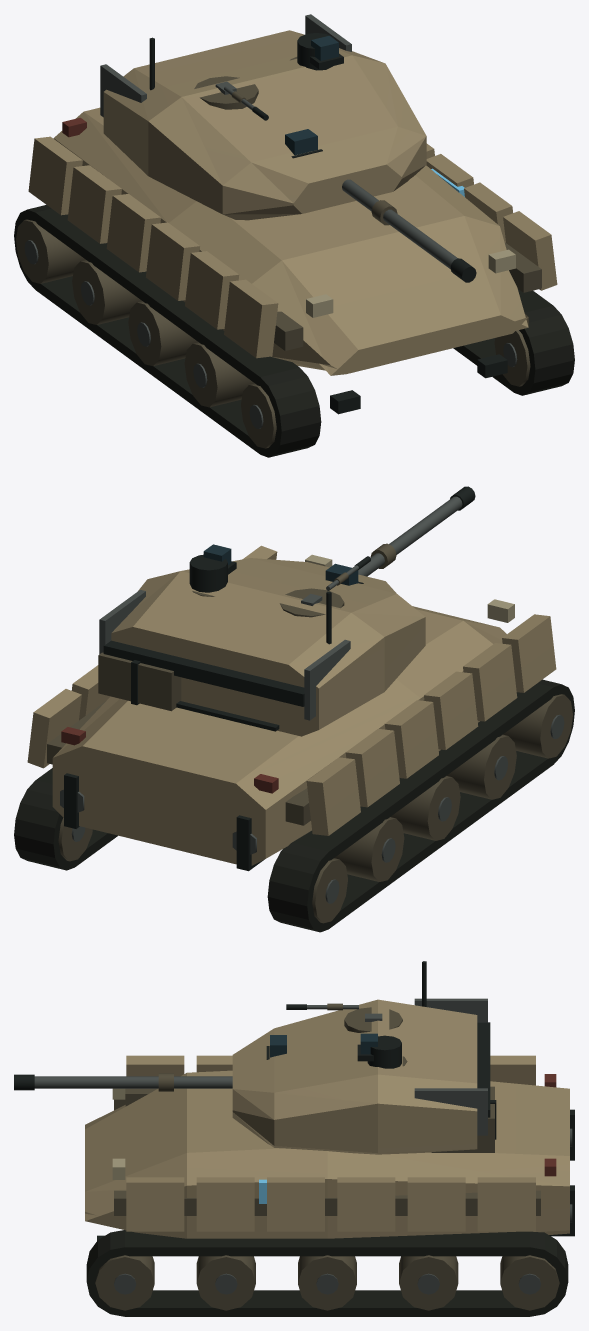
File: lightTank-lod.glb
3 renders of one model, top to bottom at view 1: azimuth 30°, elevation 25°; view 2: azimuth 150°, elevation 25°; view 3: azimuth 270°, elevation 25°, orthographic. The views are drawn at different scales.
Parts seen in each view (by area): view 1: equipment (×3); view 2: equipment (×3); view 3: equipment (×3).
Boxes of the visible parts, x1,y1,x2,y2 form: equipment (×3): [14, 14, 574, 457]; equipment (×3): [14, 486, 574, 932]; equipment (×3): [14, 961, 574, 1316].
Size of the model in its own units: 2.99 by 2.63 by 5.32.
